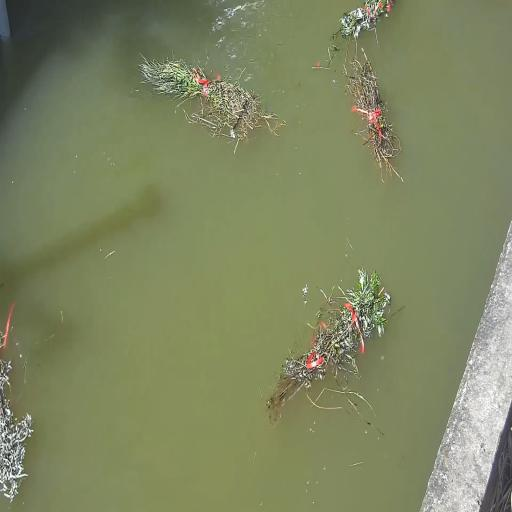twig: (265, 267, 393, 427), (143, 52, 285, 152), (345, 52, 403, 186), (0, 345, 34, 505), (336, 0, 396, 45)
